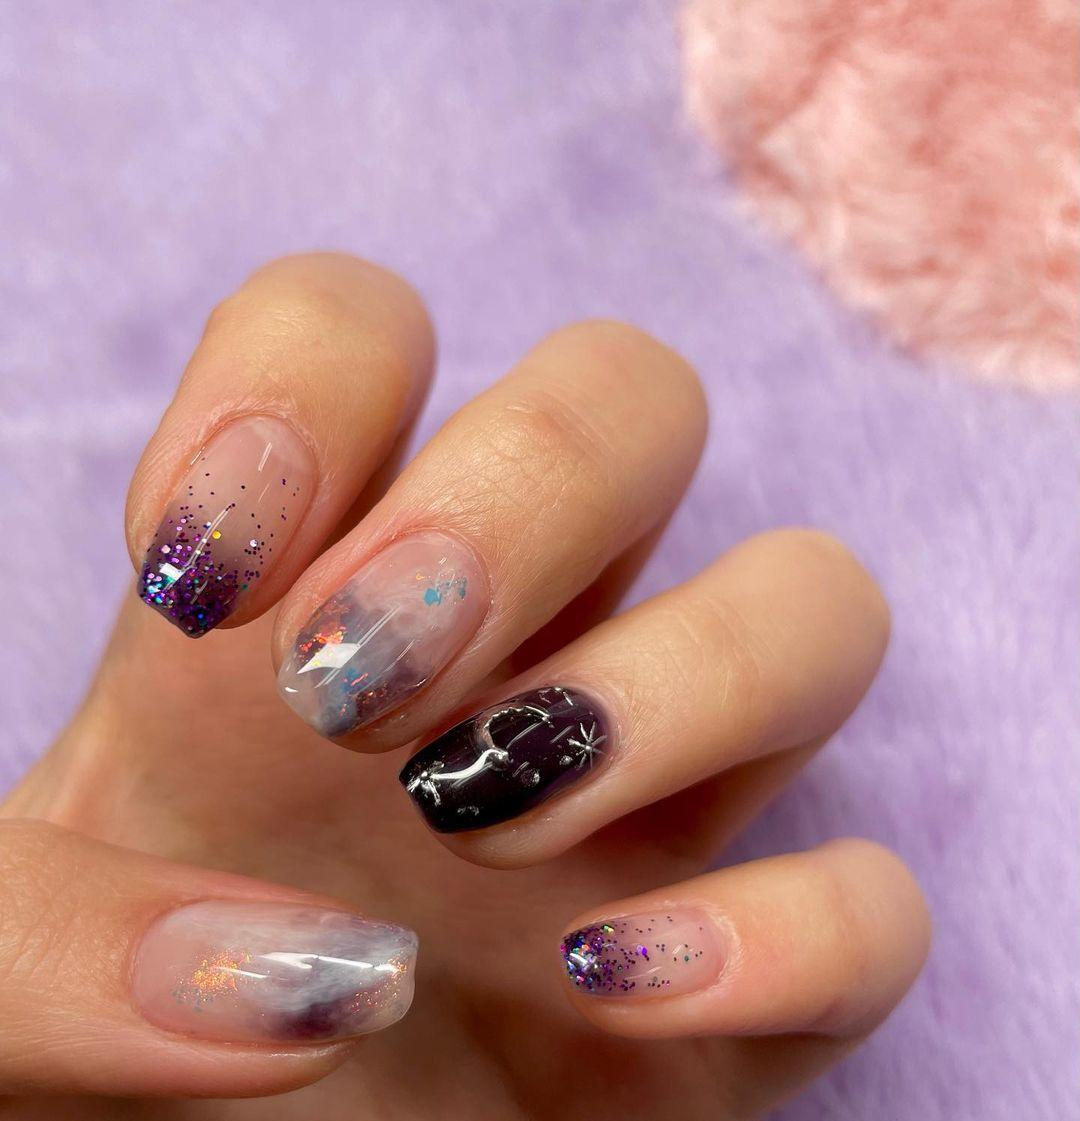nail: (270, 525, 494, 745), (126, 894, 419, 1048), (134, 409, 321, 639), (397, 682, 612, 835), (558, 901, 730, 1003)
